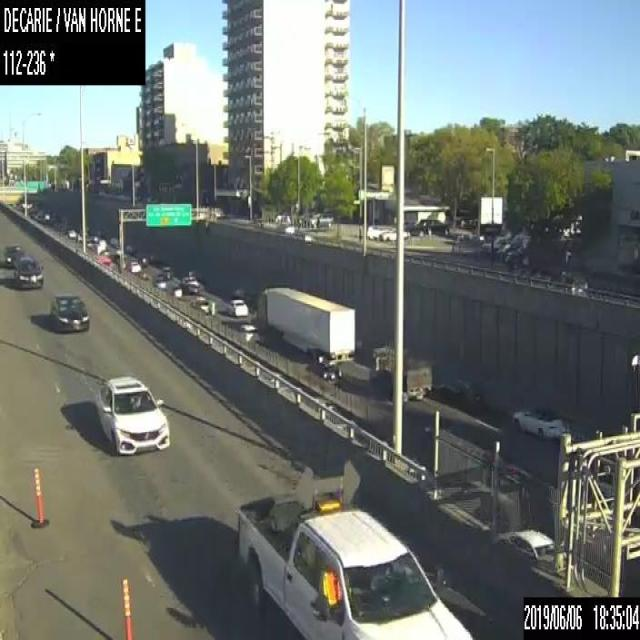construction: (30, 467, 50, 528), (122, 576, 133, 639)
vehicle: (238, 456, 474, 638), (250, 286, 354, 361), (95, 373, 169, 456), (370, 342, 431, 402), (492, 526, 554, 558), (512, 404, 568, 436), (49, 292, 89, 333), (304, 352, 342, 380), (14, 256, 44, 290), (547, 269, 587, 294), (456, 378, 484, 409), (417, 217, 448, 234), (189, 296, 215, 315), (3, 242, 21, 268), (225, 297, 248, 316), (238, 323, 258, 343), (310, 212, 334, 227), (366, 223, 386, 240), (179, 276, 199, 293), (125, 256, 140, 274), (165, 281, 181, 297), (153, 274, 166, 289), (380, 228, 396, 240), (212, 206, 224, 218), (161, 265, 172, 278), (138, 254, 148, 266), (106, 234, 116, 244), (66, 228, 76, 237)
